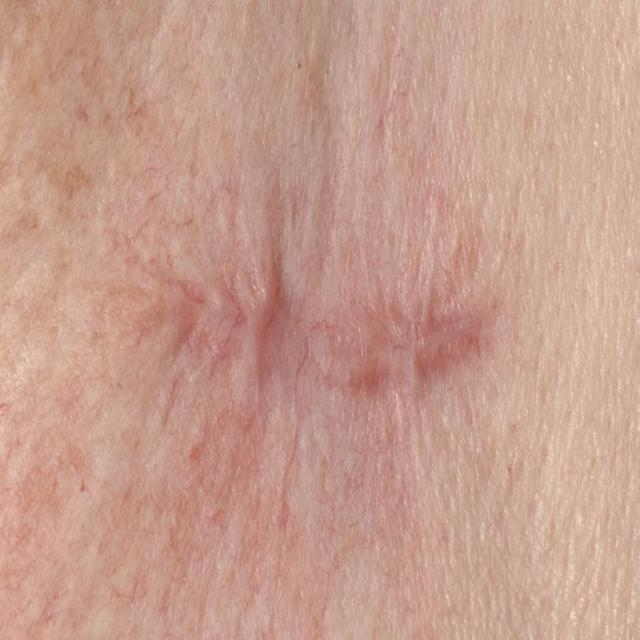wound: (126, 189, 512, 446)
